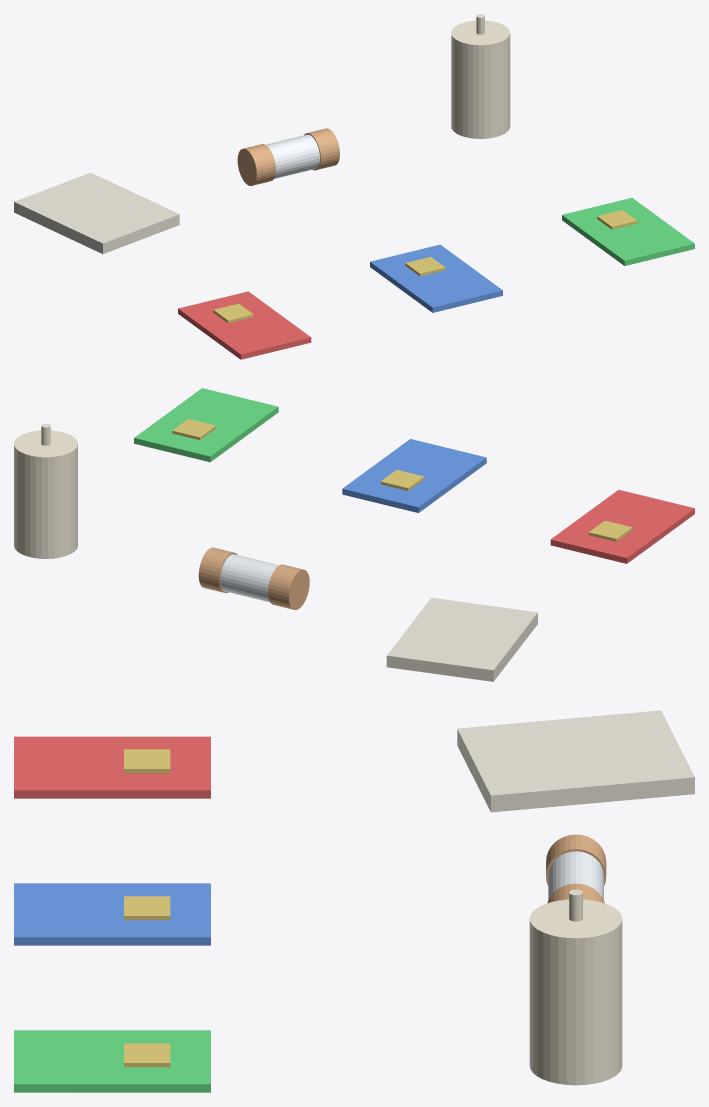
File: tool_key_items.fbx
The picture shows the model from 3 angles, top to bottom: view 1: azimuth 30°, elevation 25°; view 2: azimuth 150°, elevation 25°; view 3: azimuth 270°, elevation 25°; orthographic projection. The views are drawn at different scales.
Visible parts, largest first — view 1: SafeCodeNote, RitualCandle, Keycard_Red, Keycard_Blue, Keycard_Green, Fuse_Body, FuseCap_-0.25, FuseCap_0.25; view 2: SafeCodeNote, RitualCandle, Keycard_Green, Keycard_Blue, Keycard_Red, Fuse_Body, FuseCap_-0.25, FuseCap_0.25, Chip_0, Chip_-1.5, Chip_1.5; view 3: SafeCodeNote, RitualCandle, Keycard_Blue, Keycard_Green, Keycard_Red, Fuse_Body, FuseCap_-0.25, Chip_-1.5, Chip_0, Chip_1.5, FuseCap_0.25.
Boxes of the visible parts, x1=… form: SafeCodeNote: x1=14, y1=172, x2=179, y2=253; RitualCandle: x1=451, y1=20, x2=510, y2=138; Keycard_Red: x1=178, y1=291, x2=311, y2=359; Keycard_Blue: x1=370, y1=244, x2=502, y2=312; Keycard_Green: x1=562, y1=198, x2=694, y2=265; Fuse_Body: x1=266, y1=134, x2=319, y2=178; FuseCap_-0.25: x1=237, y1=144, x2=275, y2=185; FuseCap_0.25: x1=304, y1=128, x2=339, y2=170; SafeCodeNote: x1=386, y1=597, x2=537, y2=681; RitualCandle: x1=14, y1=430, x2=77, y2=558; Keycard_Green: x1=134, y1=388, x2=278, y2=462; Keycard_Blue: x1=342, y1=439, x2=486, y2=512; Keycard_Red: x1=550, y1=489, x2=694, y2=563; Fuse_Body: x1=220, y1=554, x2=278, y2=602; FuseCap_-0.25: x1=268, y1=564, x2=309, y2=609; FuseCap_0.25: x1=198, y1=547, x2=237, y2=593; Chip_0: x1=380, y1=470, x2=424, y2=490; Chip_-1.5: x1=589, y1=520, x2=632, y2=541; Chip_1.5: x1=172, y1=419, x2=215, y2=440; SafeCodeNote: x1=457, y1=710, x2=694, y2=812; RitualCandle: x1=529, y1=899, x2=622, y2=1085; Keycard_Blue: x1=14, y1=883, x2=210, y2=945; Keycard_Green: x1=14, y1=1030, x2=210, y2=1092; Keycard_Red: x1=14, y1=736, x2=210, y2=798; Fuse_Body: x1=548, y1=851, x2=603, y2=899; FuseCap_-0.25: x1=546, y1=834, x2=606, y2=886; Chip_-1.5: x1=124, y1=749, x2=170, y2=773; Chip_0: x1=124, y1=896, x2=170, y2=920; Chip_1.5: x1=124, y1=1043, x2=170, y2=1067; FuseCap_0.25: x1=547, y1=883, x2=604, y2=903.
Bounding box in the file's own units: 3.71 × 0.835 × 2.94.
